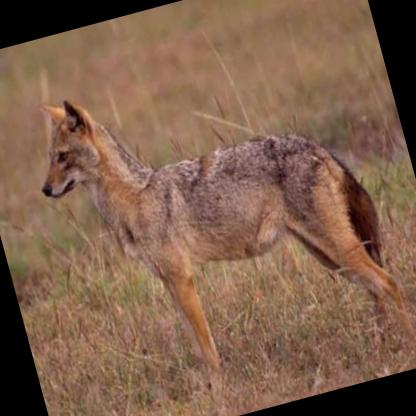dhole: (1, 5, 416, 416)
